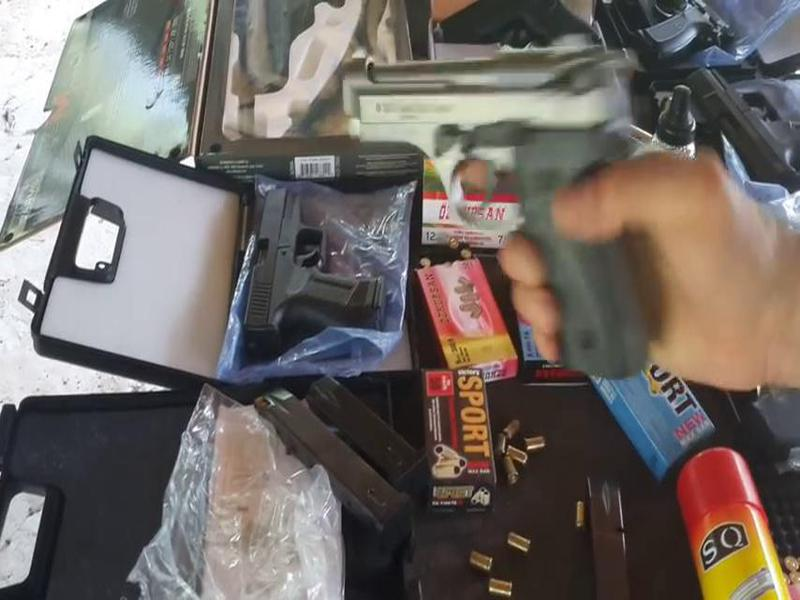Pistola: (335, 34, 665, 383), (232, 167, 397, 372)
